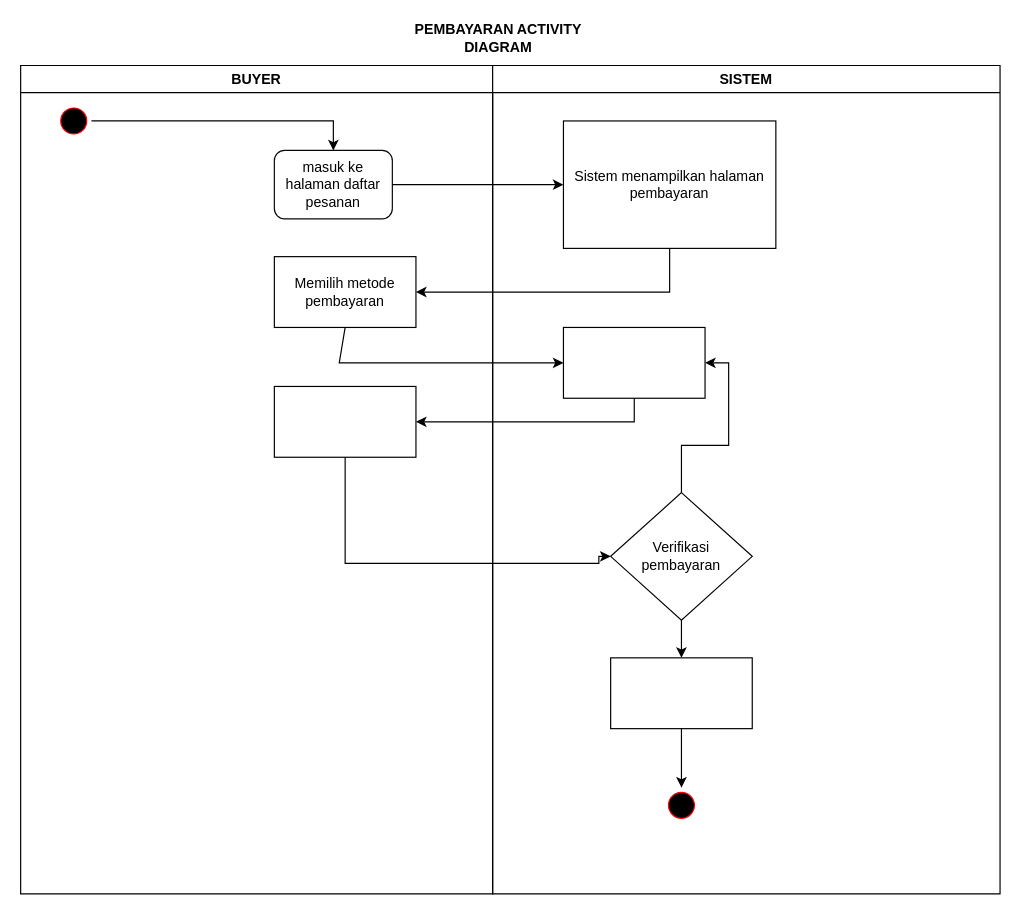
This 1021x914 diagram has some shape labels left out. Here are the shapes that lost their labels. From the top down, the centre of each, then its label:
point 633,362: Sistem memberikan token pembayaran
point 344,421: Membayar pesanan
point 680,693: Sistem memberi pesan "pesanan sedang dibuat"
